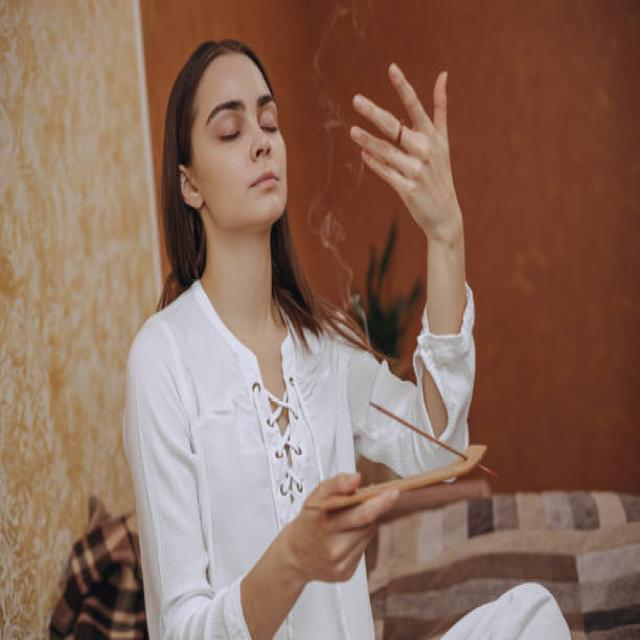Agarbatti: (355, 397, 509, 480)
